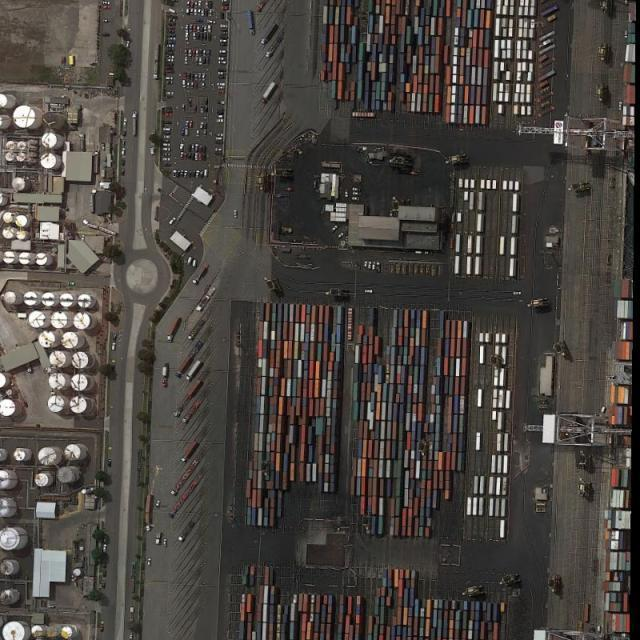vehicle: (170, 458, 201, 497), (169, 478, 199, 518), (175, 340, 205, 379), (196, 286, 217, 313), (182, 400, 202, 425), (178, 520, 196, 543), (186, 359, 204, 382), (260, 22, 278, 45), (166, 318, 182, 342), (181, 441, 198, 463), (261, 82, 278, 104), (192, 263, 209, 285), (154, 44, 160, 80), (247, 10, 255, 34), (256, 1, 269, 14), (132, 111, 138, 135), (162, 366, 168, 386), (167, 14, 178, 21), (330, 225, 338, 234), (99, 620, 105, 632), (122, 117, 129, 127), (155, 499, 161, 510), (338, 232, 345, 241), (168, 7, 177, 14), (169, 217, 176, 225), (192, 47, 198, 56), (199, 170, 205, 179), (172, 170, 178, 179), (353, 186, 362, 192), (102, 545, 108, 554), (218, 71, 228, 76), (162, 127, 172, 132), (121, 147, 126, 157), (64, 281, 74, 286), (179, 143, 185, 151), (199, 121, 205, 129), (110, 342, 116, 350), (167, 25, 176, 30), (166, 54, 175, 59), (165, 76, 174, 81), (193, 105, 198, 114), (187, 98, 192, 107), (184, 56, 189, 65), (121, 169, 126, 178), (122, 129, 127, 138), (147, 558, 152, 567), (186, 256, 191, 265), (219, 39, 229, 43), (166, 30, 176, 34), (201, 32, 206, 40), (182, 103, 186, 113), (162, 158, 172, 162), (180, 170, 185, 178), (353, 196, 361, 201), (345, 188, 349, 198), (168, 18, 177, 22), (167, 41, 176, 45), (208, 33, 212, 42), (193, 23, 197, 32), (217, 82, 226, 86), (194, 81, 198, 90), (166, 63, 175, 67), (219, 49, 228, 53), (199, 55, 203, 64), (214, 152, 223, 156), (353, 191, 362, 195), (185, 120, 189, 129), (180, 152, 184, 161), (197, 129, 201, 138), (126, 40, 130, 49), (101, 32, 110, 36), (101, 19, 110, 23), (234, 209, 238, 218), (164, 538, 168, 547), (203, 25, 208, 32), (202, 50, 207, 57), (204, 106, 209, 113), (202, 146, 207, 153), (218, 61, 229, 64), (167, 34, 175, 38), (167, 47, 175, 51), (186, 24, 190, 32), (186, 34, 190, 42), (218, 101, 226, 105), (218, 86, 226, 90), (182, 80, 186, 88), (216, 119, 224, 123), (166, 69, 174, 73), (206, 58, 210, 66), (218, 75, 226, 79), (202, 74, 206, 82), (194, 73, 198, 81), (202, 8, 206, 16), (206, 1, 210, 9), (209, 2, 213, 10), (198, 1, 202, 9), (163, 143, 171, 147), (163, 154, 171, 158), (163, 163, 171, 167), (196, 170, 200, 178), (194, 153, 198, 161), (186, 128, 190, 136), (107, 459, 111, 467), (121, 159, 125, 167), (368, 262, 372, 270), (220, 35, 230, 38), (164, 59, 174, 62), (195, 56, 198, 66), (185, 50, 189, 57), (197, 33, 201, 40), (208, 25, 212, 32), (202, 82, 206, 89), (186, 8, 190, 15), (186, 1, 190, 8), (216, 141, 223, 145), (202, 154, 206, 161), (164, 135, 171, 139), (184, 171, 188, 178), (198, 153, 202, 160), (194, 144, 198, 151), (182, 129, 186, 136), (189, 121, 193, 128), (221, 21, 230, 24), (207, 21, 216, 24), (203, 56, 206, 65), (162, 148, 171, 151), (163, 131, 172, 134), (164, 122, 173, 125), (191, 152, 194, 161), (204, 129, 207, 138), (102, 6, 111, 9), (365, 290, 374, 293), (220, 43, 228, 46), (166, 51, 174, 54), (221, 31, 229, 34), (194, 32, 197, 40), (190, 24, 193, 32), (166, 82, 174, 85), (166, 92, 174, 95), (201, 105, 204, 113), (220, 54, 228, 57), (218, 68, 226, 71), (198, 74, 201, 82), (194, 9, 198, 15), (170, 1, 178, 4), (191, 1, 194, 9), (199, 144, 202, 152), (372, 262, 375, 270), (122, 140, 126, 146), (103, 1, 111, 4), (364, 261, 367, 269), (199, 49, 202, 56), (167, 44, 174, 47), (189, 49, 192, 56), (205, 33, 208, 40), (198, 25, 201, 32), (197, 20, 204, 23), (196, 49, 199, 56), (191, 81, 194, 88), (208, 49, 211, 56), (216, 137, 223, 140), (183, 71, 186, 78), (187, 72, 190, 79), (210, 10, 213, 17), (191, 9, 194, 16), (193, 171, 196, 178), (190, 171, 193, 178), (188, 152, 191, 159), (184, 152, 187, 159), (198, 10, 202, 15), (188, 80, 190, 89), (218, 134, 224, 137), (218, 58, 227, 60), (191, 74, 194, 80), (192, 142, 194, 151), (220, 26, 228, 28), (215, 148, 223, 150), (168, 38, 175, 40), (196, 1, 198, 8), (178, 170, 180, 177), (222, 1, 230, 2)
